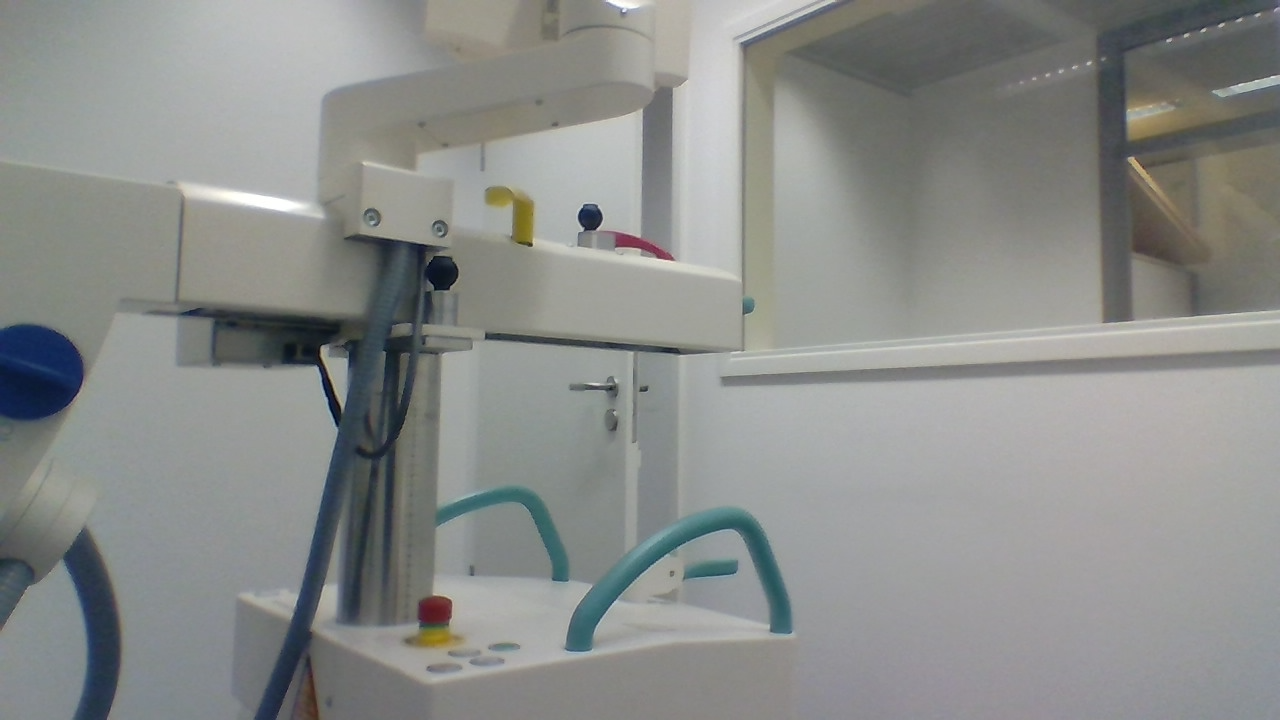carmBACK: (611, 544, 742, 604)
